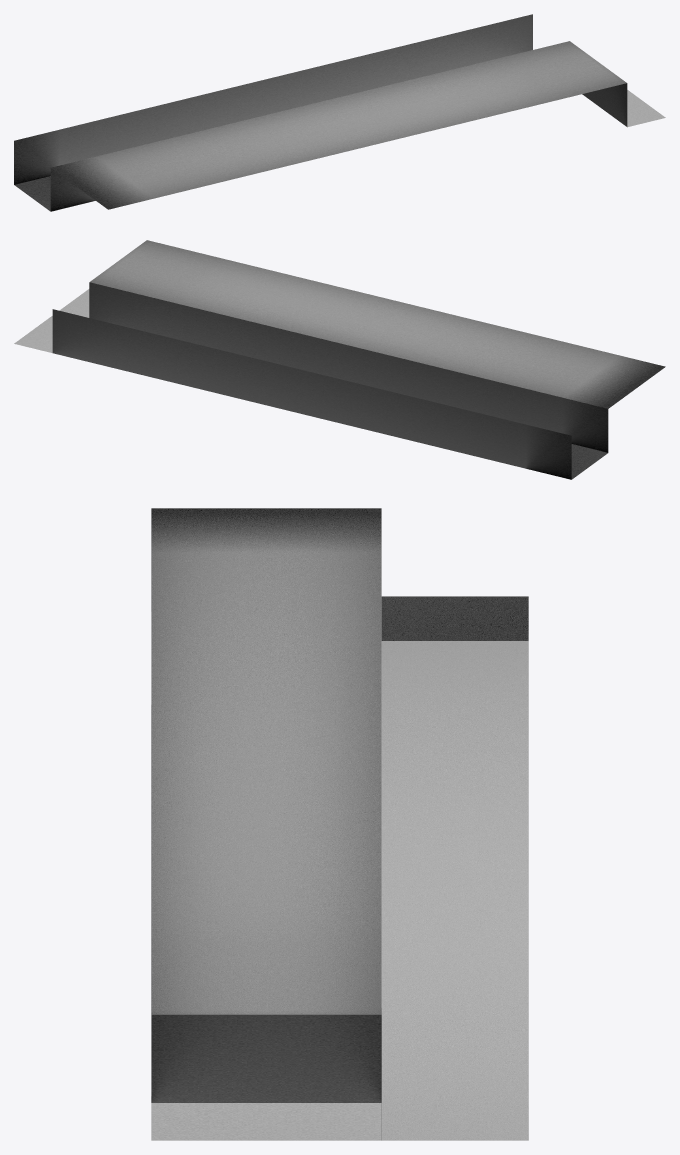
File: hall-ceiling.glb
3 views of the same model, one above another, from view 1: azimuth 30°, elevation 25°; view 2: azimuth 150°, elevation 25°; view 3: azimuth 270°, elevation 25° (orthographic). The views are drawn at different scales.
Visible parts, largest first — view 1: Plane.004; view 2: Plane.004; view 3: Plane.004.
Boxes of the visible parts, x1=… form: Plane.004: x1=14, y1=14, x2=665, y2=211; Plane.004: x1=14, y1=240, x2=665, y2=479; Plane.004: x1=151, y1=508, x2=528, y2=1140.
Size of the model in its own units: 4.52 by 0.3418 by 1.32.
1 material, 1 textured.
